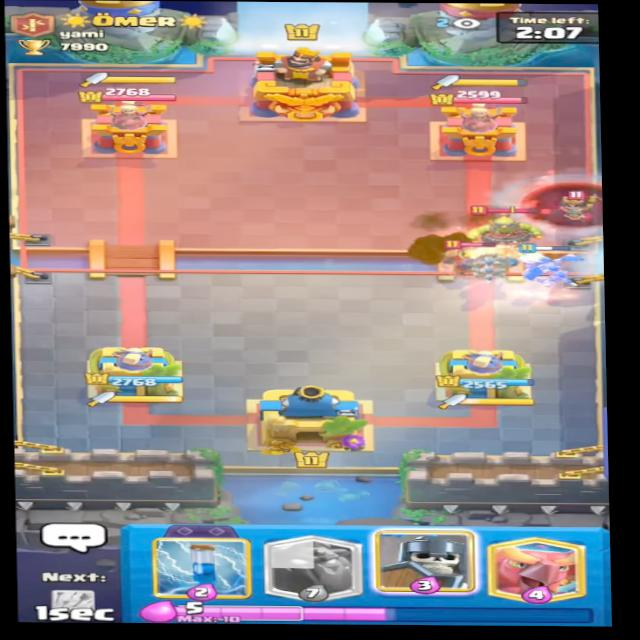goblin-demolisher: (463, 202, 543, 250)
knight: (435, 235, 515, 279)
little-prince: (553, 186, 595, 229)
